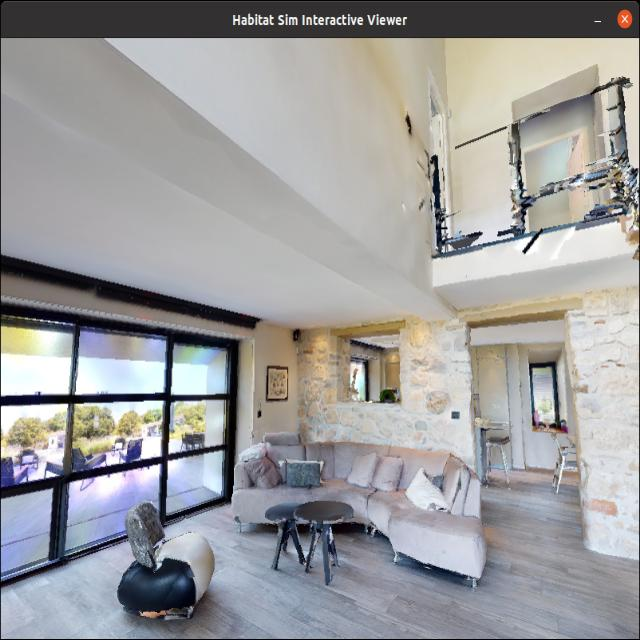door-frame: (460, 313, 600, 569), (505, 69, 617, 235)
sofa: (221, 421, 500, 584), (96, 504, 222, 633)
table: (261, 490, 354, 585)
